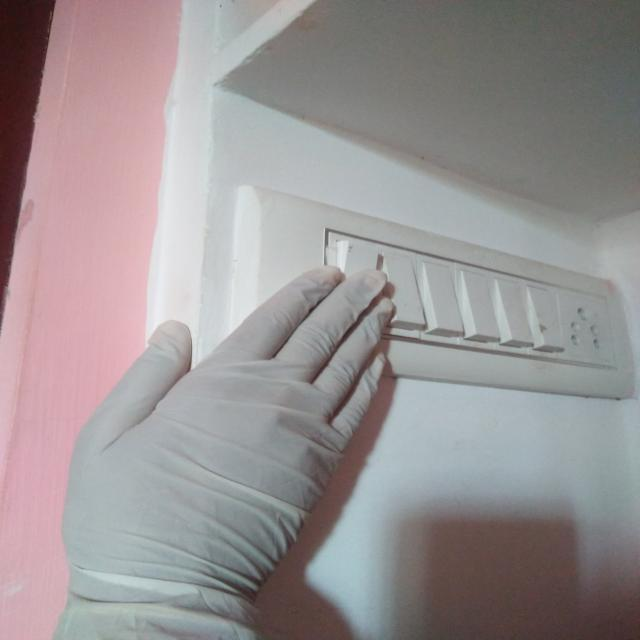glove_hand: (34, 259, 396, 636)
